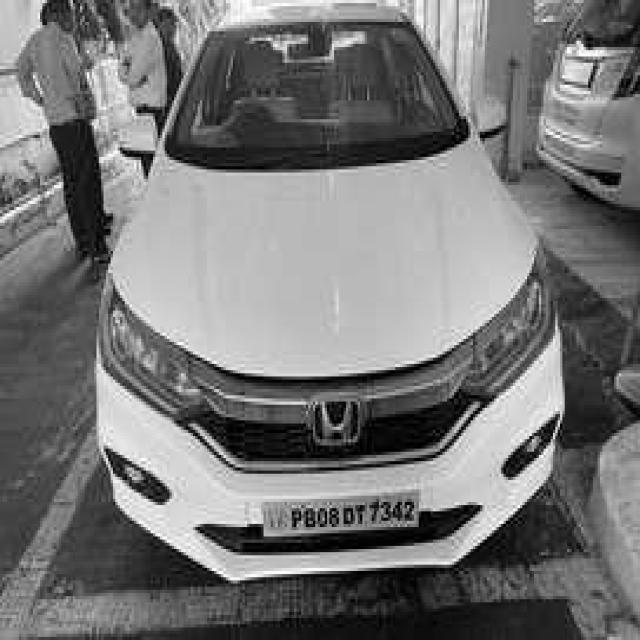car: (94, 3, 572, 590)
license-plate: (259, 490, 426, 540)
